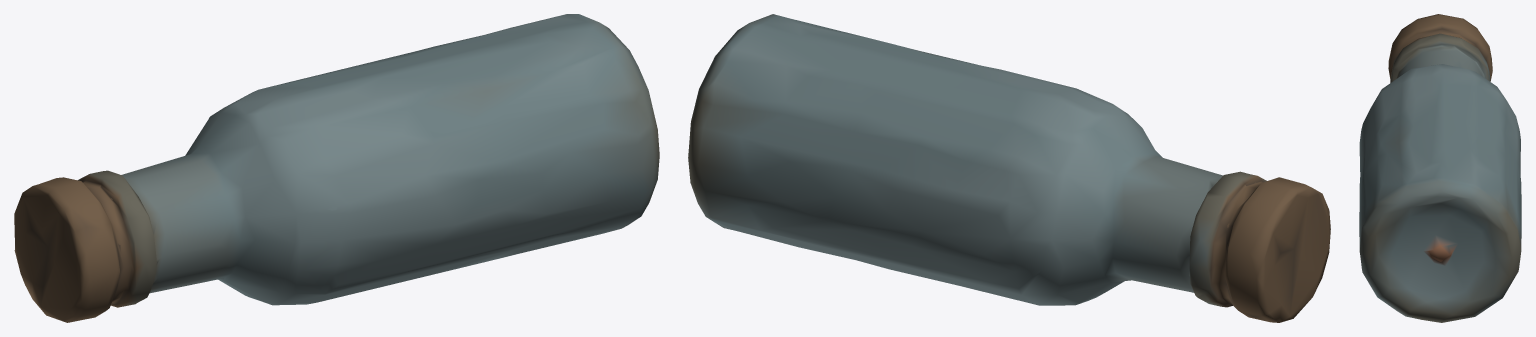
The model's file is gen3d-message-in-a-bottle-lod0.glb.
The picture shows the model from 3 angles, left to right: view 1: azimuth 30°, elevation 25°; view 2: azimuth 150°, elevation 25°; view 3: azimuth 270°, elevation 25°; orthographic projection. The views are drawn at different scales.
Visible parts, largest first — view 1: part_0; view 2: part_0; view 3: part_0.
Boxes of the visible parts, x1,y1,x2,y2 form: part_0: [14, 14, 659, 322]; part_0: [688, 14, 1330, 322]; part_0: [1359, 14, 1521, 322].
Size of the model in its own units: 2.96 by 0.9989 by 1.03.
